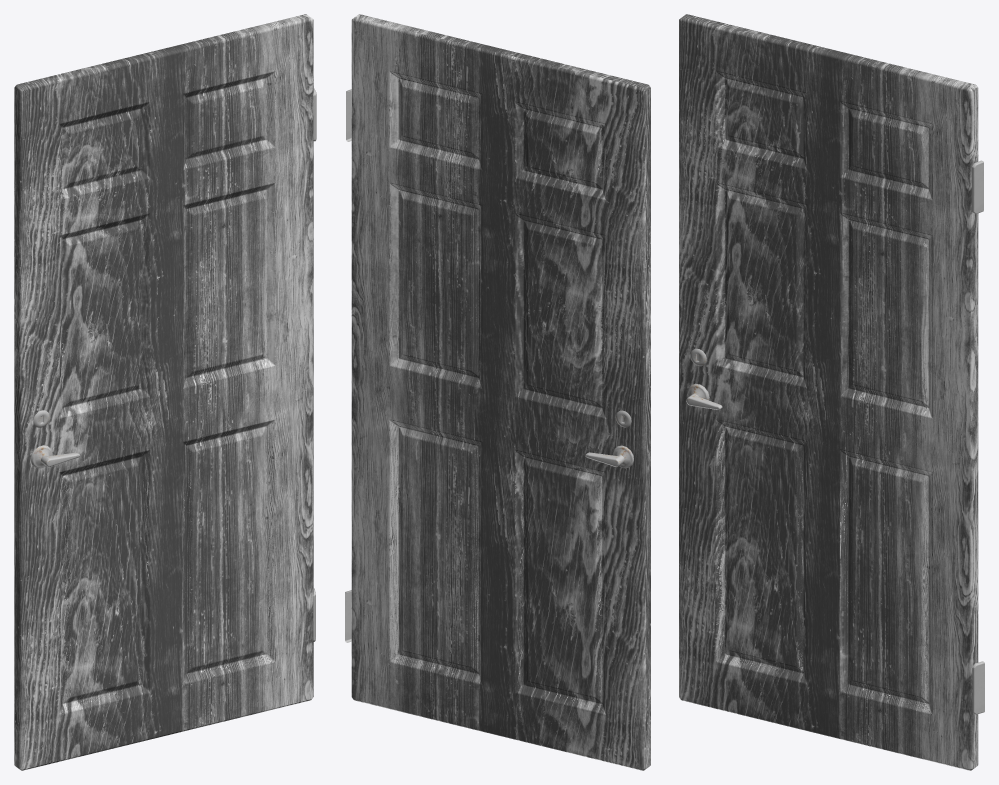
Rendered from SM_Door_Inside_A1.fbx.
3 renders of one model, left to right at view 1: azimuth 30°, elevation 25°; view 2: azimuth 150°, elevation 25°; view 3: azimuth 330°, elevation 25°, orthographic.
Parts seen in each view (by area): view 1: SM_Door_Inside_A1; view 2: SM_Door_Inside_A1; view 3: SM_Door_Inside_A1.
Boxes of the visible parts, x1,y1,x2,y2 form: SM_Door_Inside_A1: (14, 14, 316, 770); SM_Door_Inside_A1: (345, 14, 650, 770); SM_Door_Inside_A1: (679, 14, 984, 770).
Size of the model in its own units: 97.19 by 14 by 211.
2 materials, 2 textured.
